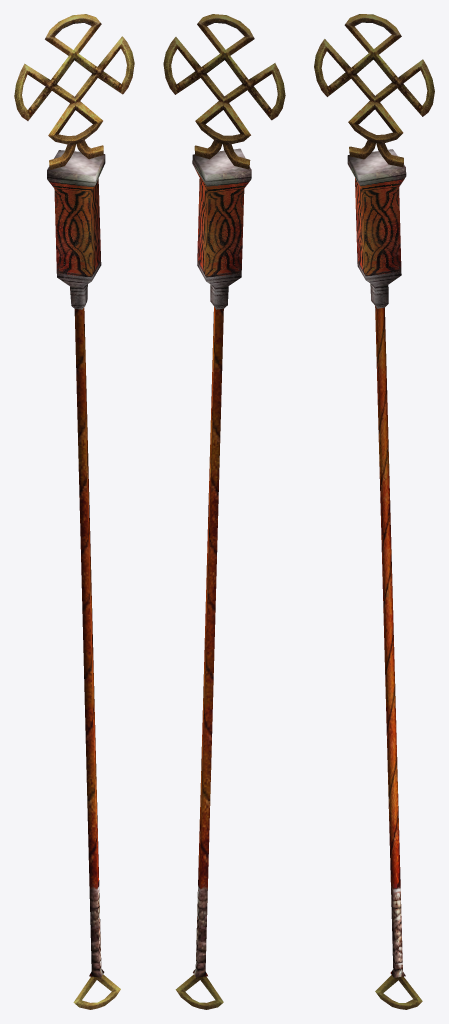
Rendered from tstaff_03.glb.
3 views of the same model, side by side, from view 1: azimuth 30°, elevation 25°; view 2: azimuth 150°, elevation 25°; view 3: azimuth 330°, elevation 25° (orthographic).
Visible parts, largest first — view 1: tstaff_03; view 2: tstaff_03; view 3: tstaff_03.
Part boxes in pixels (box(x1,y1,x2,y2)): tstaff_03: box(14, 14, 134, 1009); tstaff_03: box(163, 14, 285, 1009); tstaff_03: box(314, 14, 434, 1009).
Size of the model in its own units: 2.32 by 18.38 by 1.19.
1 material, 1 textured.
